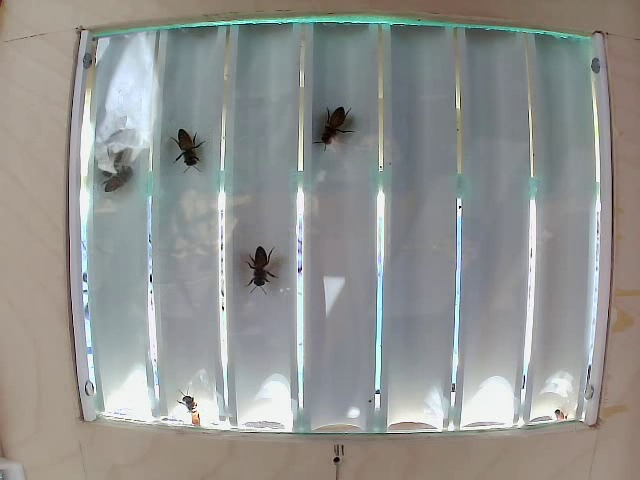bee: (237, 234, 284, 307), (155, 119, 218, 167), (317, 95, 357, 159), (112, 158, 139, 205)
